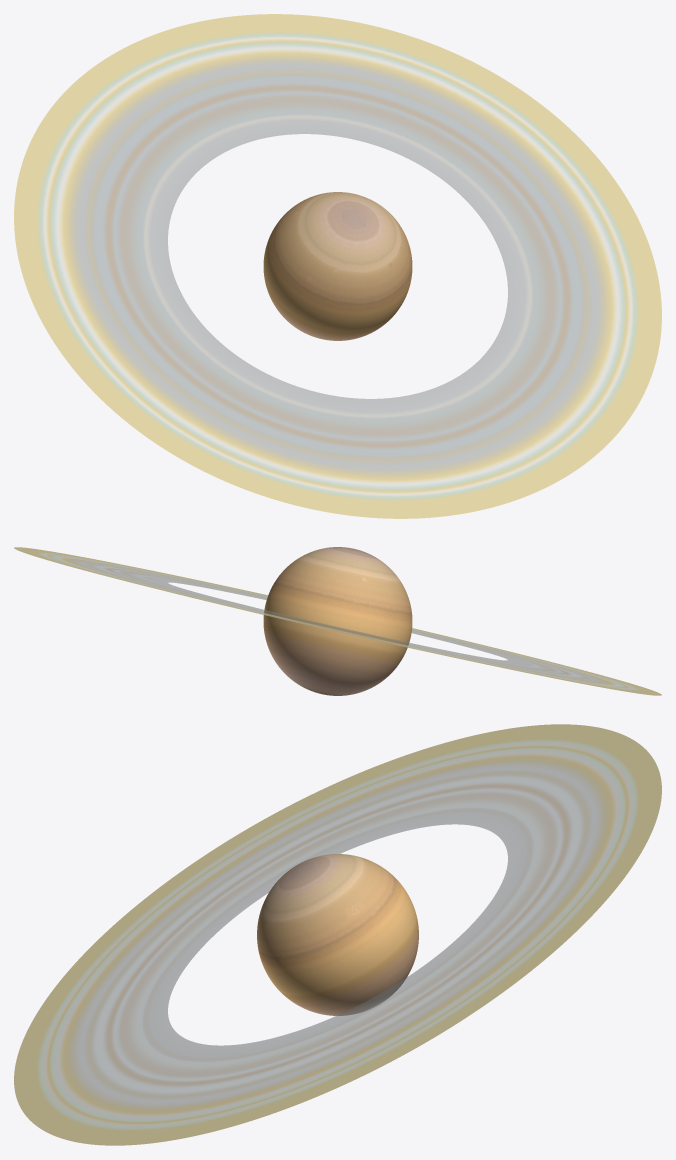
Rendered from saturn.glb.
3 views of the same model, one above another, from view 1: azimuth 30°, elevation 25°; view 2: azimuth 150°, elevation 25°; view 3: azimuth 270°, elevation 25° (orthographic). The views are drawn at different scales.
Visible parts, largest first — view 1: Ring, Sphere; view 2: Sphere, Ring; view 3: Ring, Sphere.
Boxes of the visible parts, bbox=[...] form: Ring: bbox=[14, 14, 661, 518]; Sphere: bbox=[263, 192, 412, 340]; Sphere: bbox=[263, 547, 412, 695]; Ring: bbox=[14, 547, 661, 695]; Ring: bbox=[14, 724, 661, 1145]; Sphere: bbox=[257, 854, 418, 1015].
Size of the model in its own units: 520 by 230 by 466.
2 materials, 2 textured.
